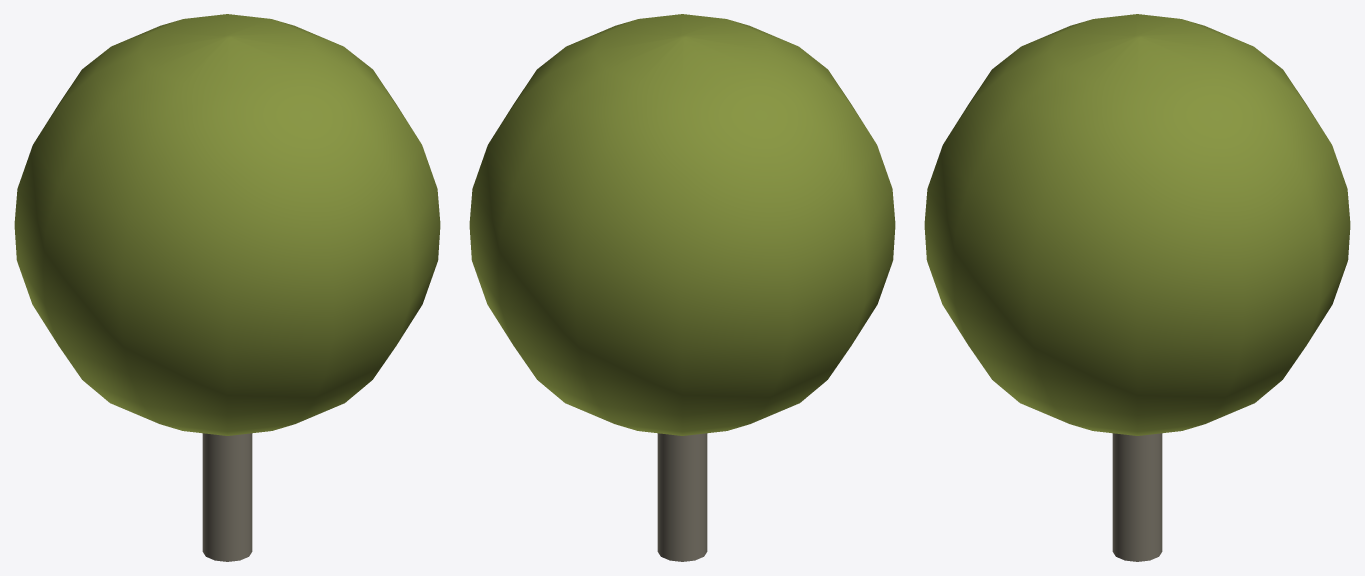
The model's file is California_Bay_Analytical_0.obj.
3 renders of one model, left to right at view 1: azimuth 30°, elevation 25°; view 2: azimuth 150°, elevation 25°; view 3: azimuth 270°, elevation 25°, orthographic.
Parts seen in each view (by area): view 1: AnalyticalCrown, AnalyticalTrunk; view 2: AnalyticalCrown, AnalyticalTrunk; view 3: AnalyticalCrown, AnalyticalTrunk.
Boxes of the visible parts, left/top/right/bottom form: AnalyticalCrown: left=14, top=14, right=440, bottom=435; AnalyticalTrunk: left=202, top=433, right=252, bottom=561; AnalyticalCrown: left=469, top=14, right=895, bottom=435; AnalyticalTrunk: left=657, top=433, right=707, bottom=561; AnalyticalCrown: left=924, top=14, right=1350, bottom=435; AnalyticalTrunk: left=1112, top=433, right=1162, bottom=561.
Size of the model in its own units: 18.76 by 25 by 18.76.
